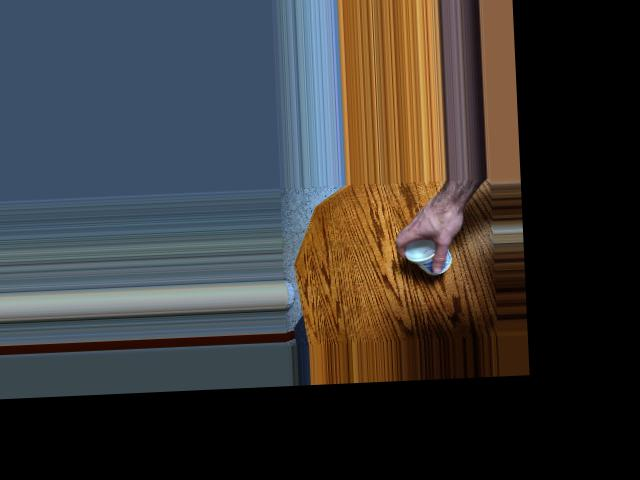cotage: (395, 239, 455, 277)
